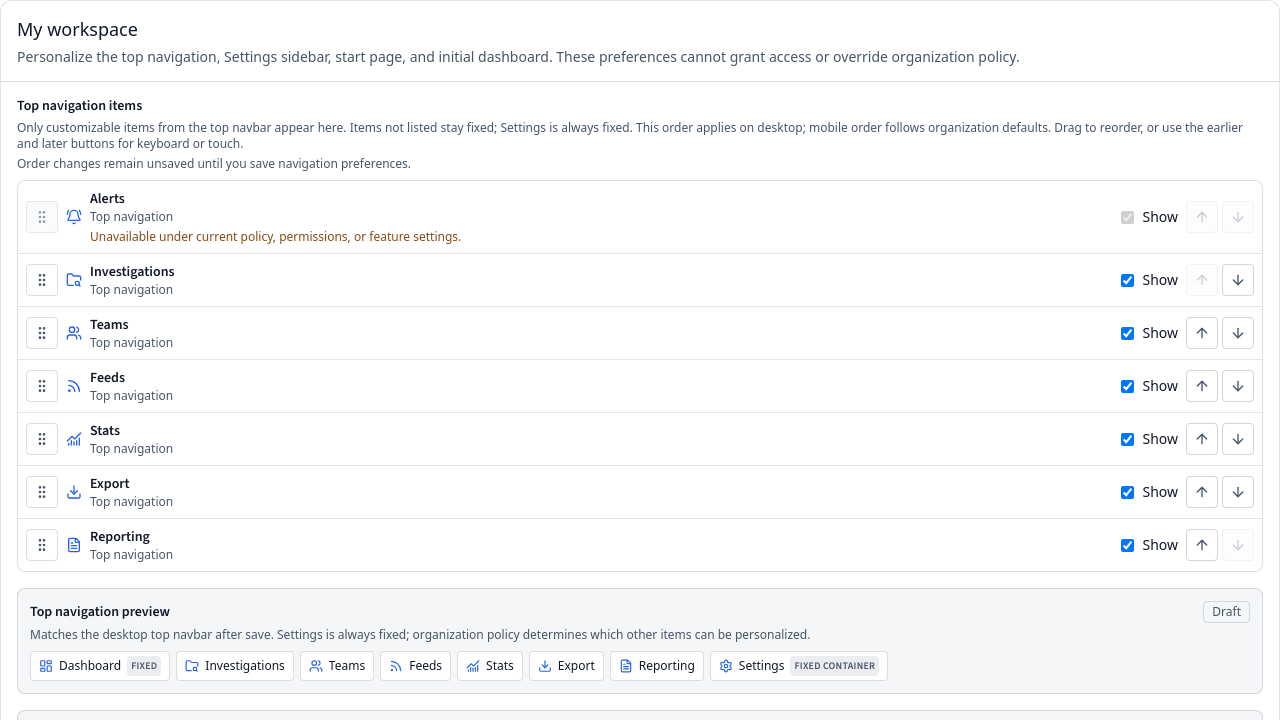
Test: WorkspacePersonalizationPanel › excludes unavailable items from reorder positions and targets
The width and height of the screenshot is (1280, 720).
Expected: the button named "Drag Alerts. Position 0 of 6." is disabled, [26,201,58,233]
Click the button named "Move Feeds earlier" at (1202, 386), box [1186,370,1218,402]
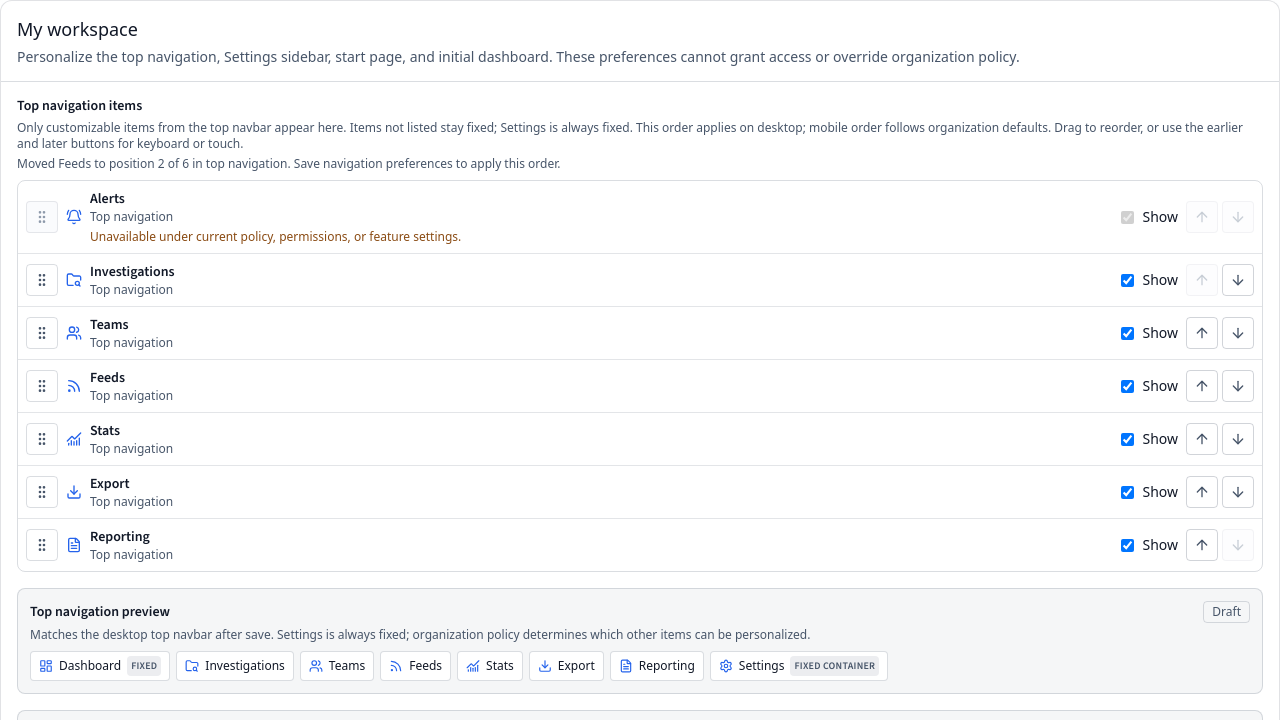
Expected: the message shows "position 2 of 6", [17,155,560,172]
